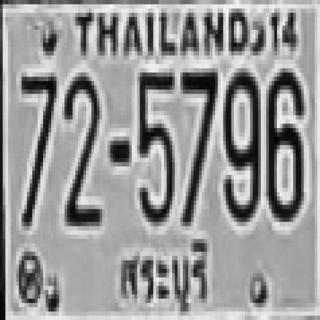N00: (222, 68, 257, 218)
N02: (62, 70, 100, 224)
N05: (137, 68, 172, 222)
N06: (263, 68, 301, 218)
N07: (19, 73, 57, 222), (180, 68, 215, 222), (20, 72, 55, 179)
N09: (222, 68, 257, 218)
P60: (116, 238, 213, 320)
